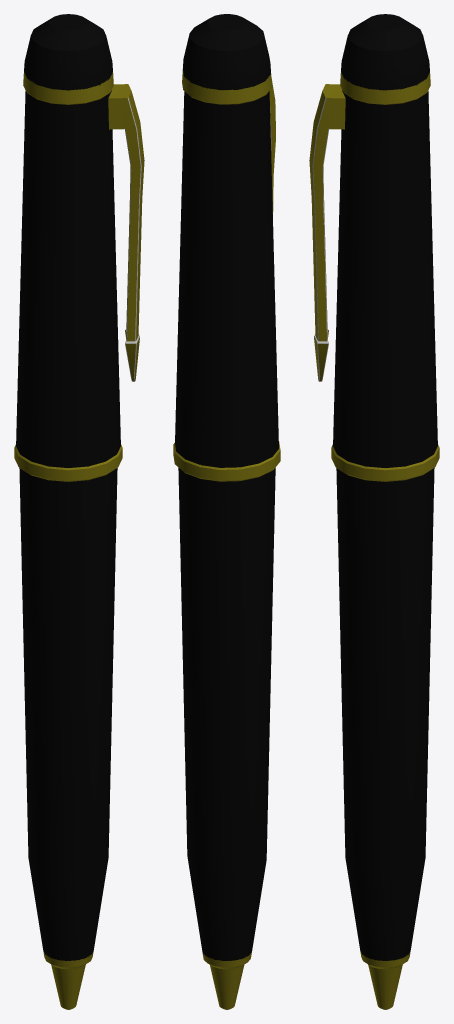
Rendered from Pen.fbx.
The picture shows the model from 3 angles, left to right: view 1: azimuth 90°, elevation 25°; view 2: azimuth 150°, elevation 25°; view 3: azimuth 270°, elevation 25°; orthographic projection.
Visible parts, largest first — view 1: Pen; view 2: Pen; view 3: Pen.
Boxes of the visible parts, bbox=[...] form: Pen: bbox=[14, 14, 144, 1009]; Pen: bbox=[173, 14, 280, 1009]; Pen: bbox=[309, 14, 439, 1009].
Bounding box in the file's own units: 0.5221 × 5.26 × 0.6282.
1 material, 1 textured.
